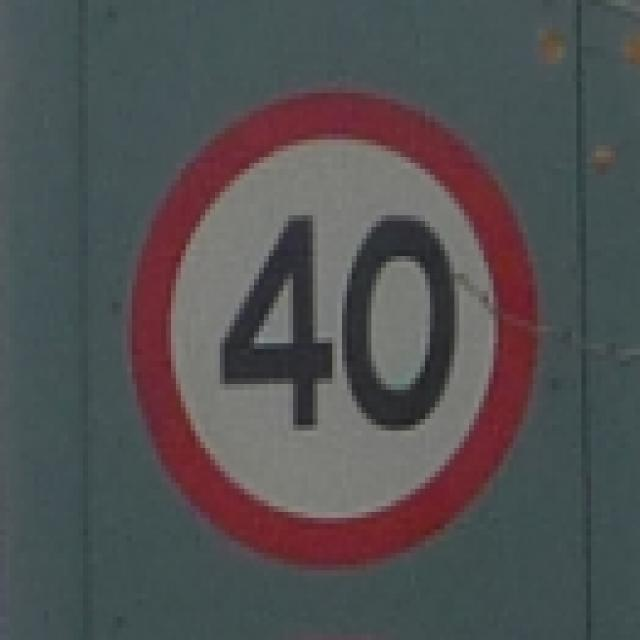Speed: (138, 86, 548, 559)
